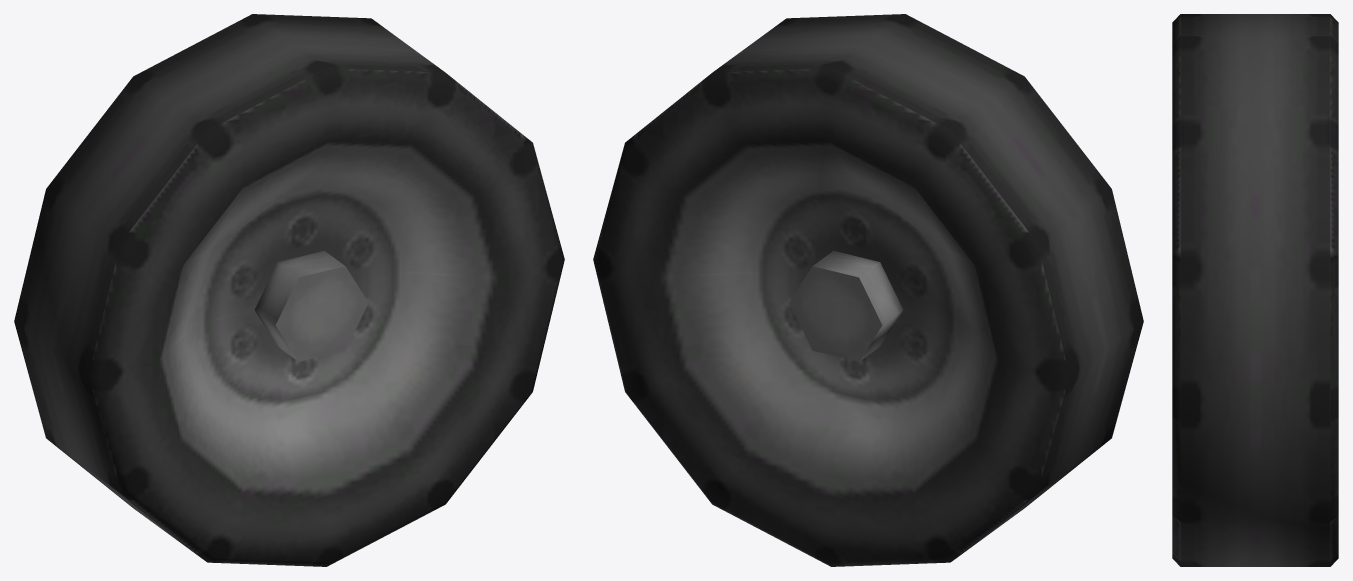
File: tire_1.obj
3 renders of one model, left to right at view 1: azimuth 30°, elevation 25°; view 2: azimuth 150°, elevation 25°; view 3: azimuth 270°, elevation 25°, orthographic.
Visible parts, largest first — view 1: tire_1; view 2: tire_1; view 3: tire_1.
Boxes of the visible parts, <box> form: tire_1: <box>14,14,564,566</box>; tire_1: <box>593,14,1143,566</box>; tire_1: <box>1172,14,1338,566</box>.
Bounding box in the file's own units: 1 × 1 × 0.3.
1 material, 1 textured.
